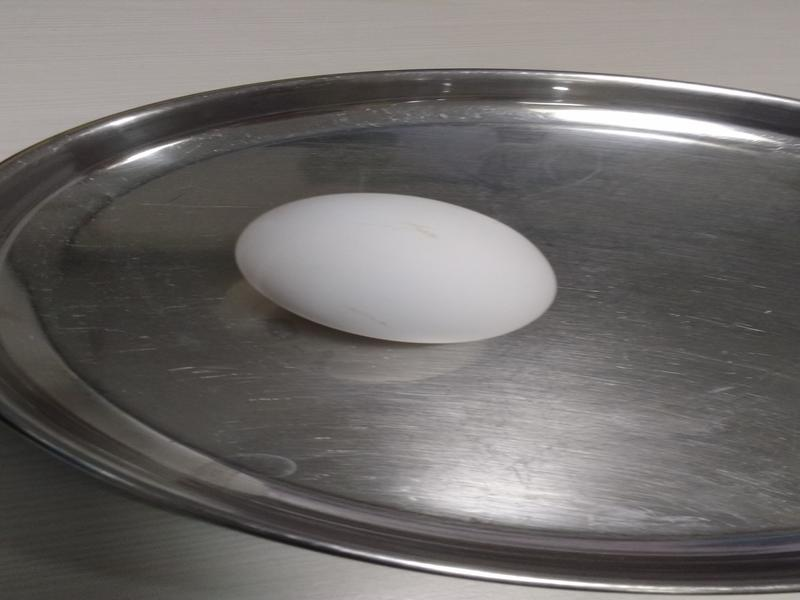egg: (234, 198, 564, 338)
